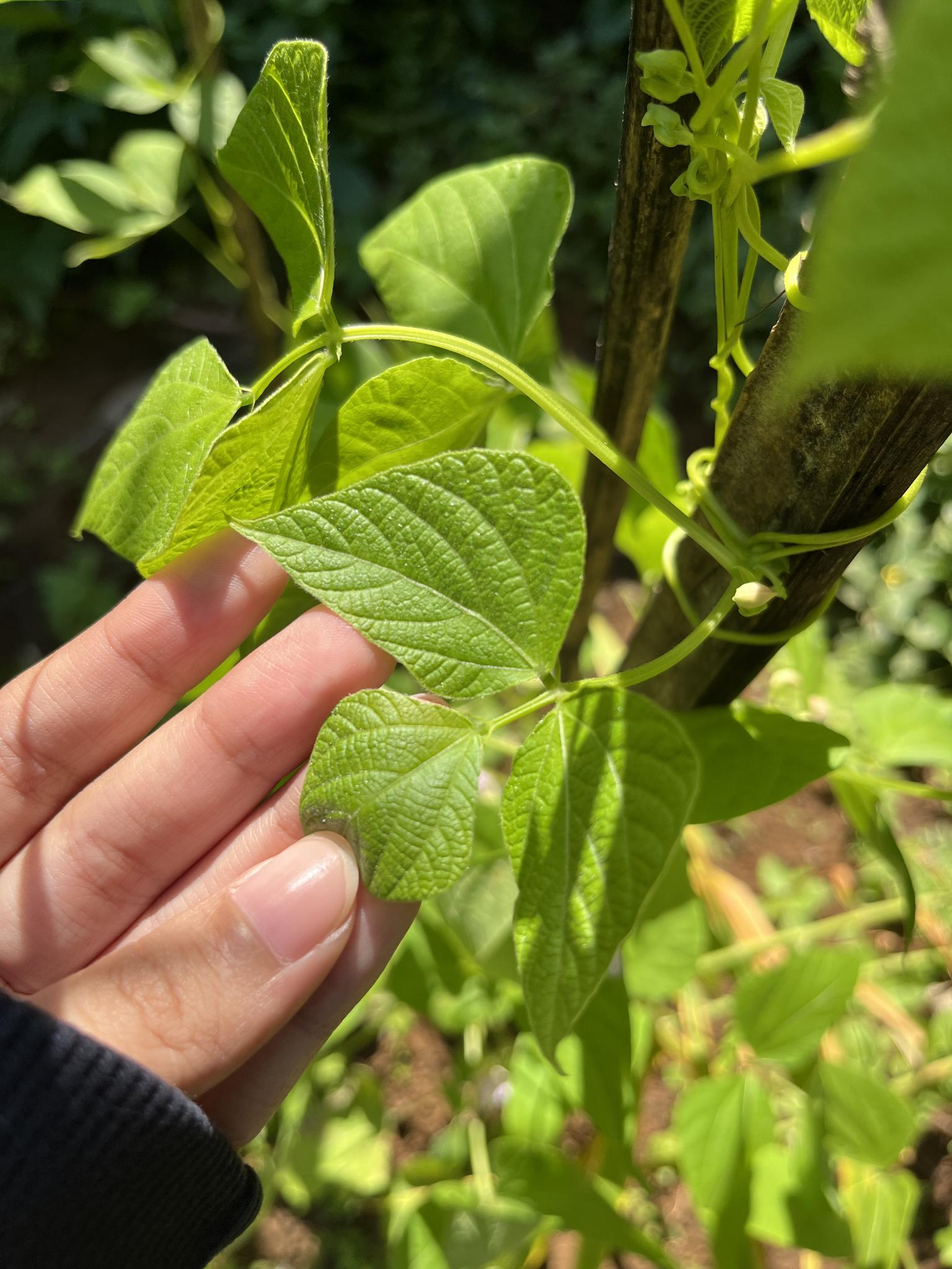sehat: (219, 444, 580, 709)
